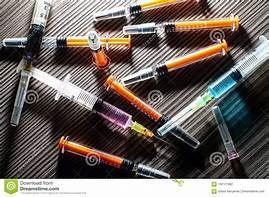Syringe: (49, 130, 168, 182), (121, 10, 242, 34)
